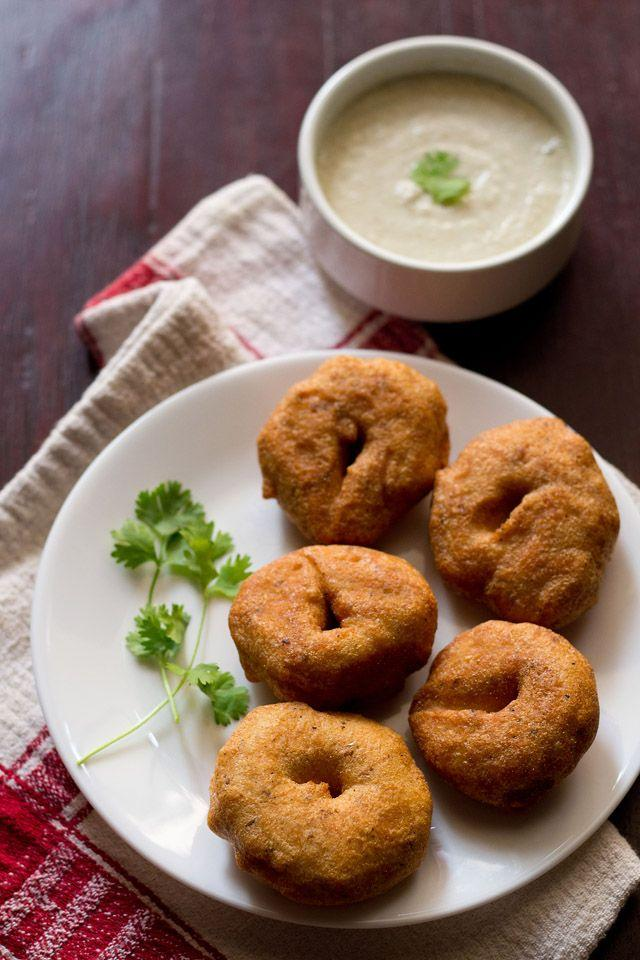coconut chutney: (330, 66, 563, 257)
medu vada: (220, 352, 619, 922)
